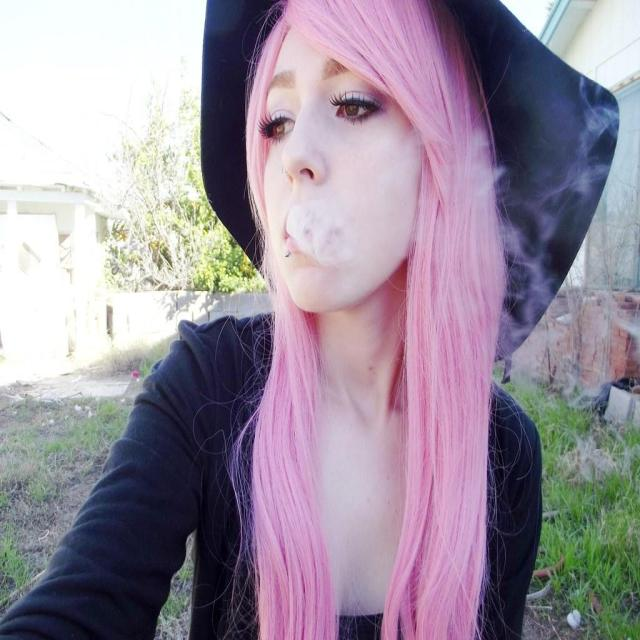smoking: (3, 1, 621, 637), (254, 0, 496, 322)
